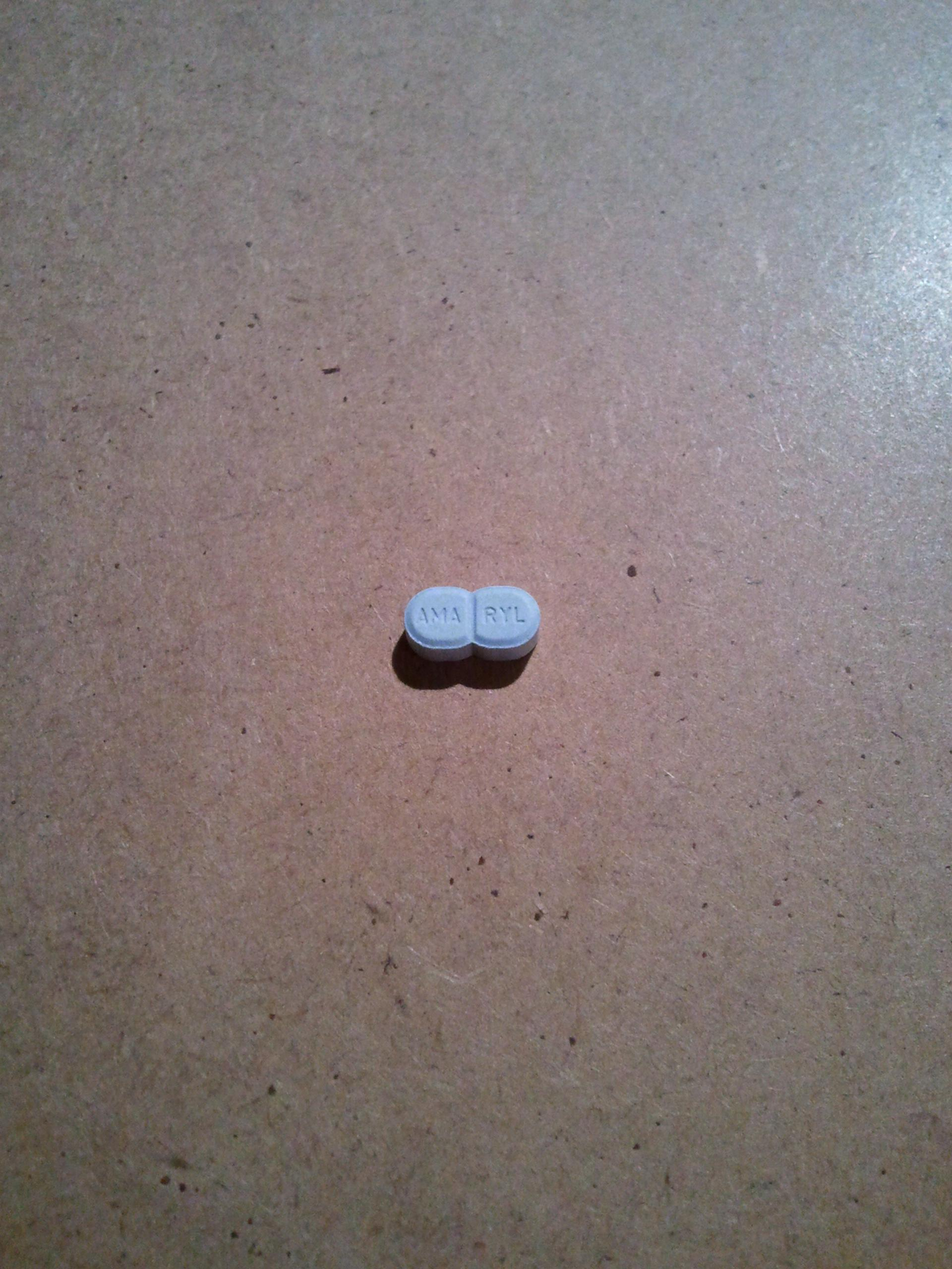Pill: (389, 577, 549, 663)
